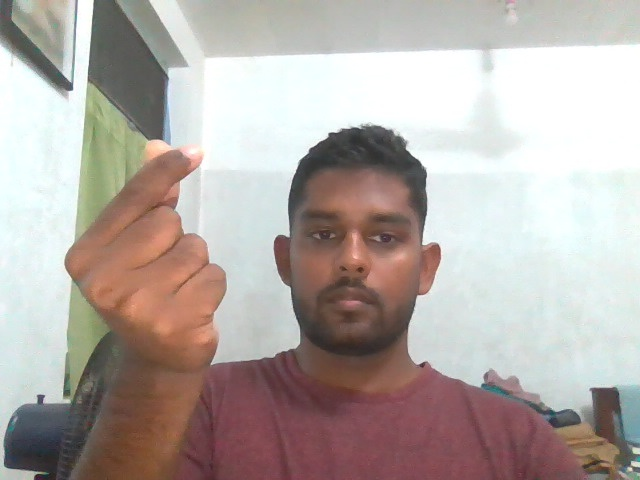iloveyou: (42, 132, 235, 394)
